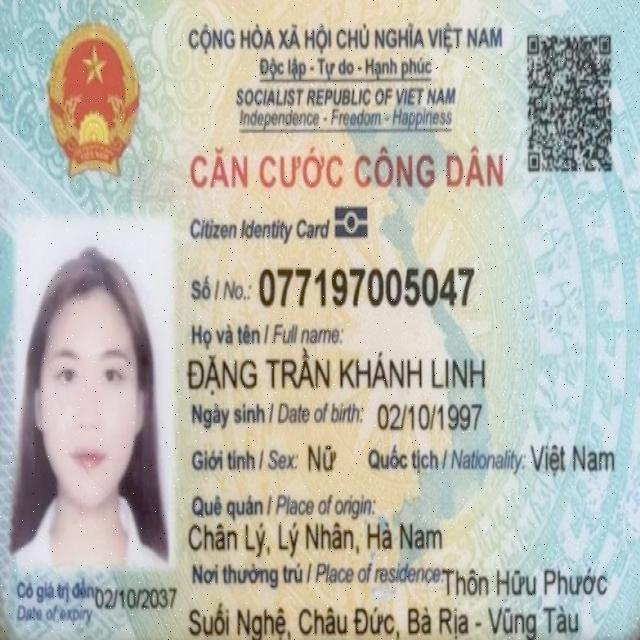current_place: (188, 598, 578, 640), (441, 565, 612, 601)
dob: (377, 398, 483, 435)
expire_date: (94, 582, 178, 610)
gender: (306, 438, 339, 475)
id: (258, 265, 477, 310)
name: (187, 349, 488, 397)
nationality: (531, 440, 618, 481)
origin_place: (185, 518, 446, 560)
